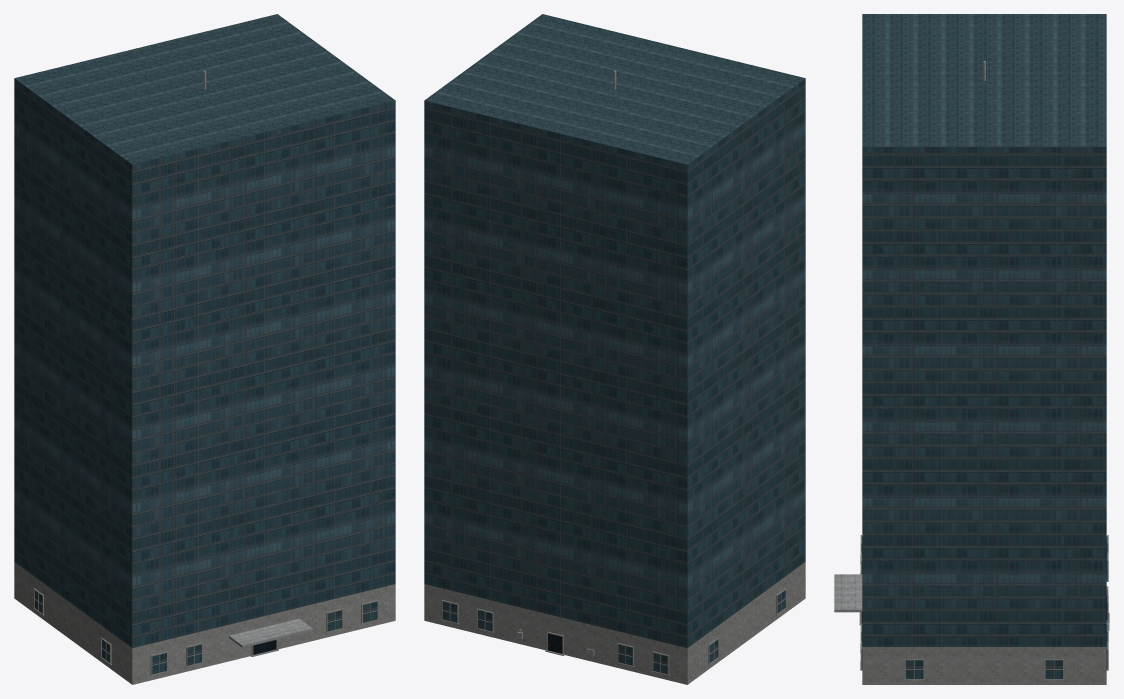
Rendered from midtown-office-tower_lod0.gltf.
3 views of the same model, side by side, from view 1: azimuth 30°, elevation 25°; view 2: azimuth 150°, elevation 25°; view 3: azimuth 270°, elevation 25° (orthographic). The views are drawn at different scales.
Visible parts, largest first — view 1: midtown-office-tower_upper, midtown-office-tower_base, midtown-office-tower_fen_07-glass-curtain-blue_3, midtown-office-tower__canopy, midtown-office-tower_fen_06-granite_0; view 2: midtown-office-tower_upper, midtown-office-tower_base, midtown-office-tower_fen_07-glass-curtain-blue_3, midtown-office-tower_fen_06-granite_0; view 3: midtown-office-tower_upper, midtown-office-tower_base, midtown-office-tower__canopy, midtown-office-tower_fen_07-glass-curtain-blue_3, midtown-office-tower_fen_06-granite_0.
Boxes of the visible parts, x1,y1,x2,y2 form: midtown-office-tower_upper: [14, 14, 395, 648]; midtown-office-tower_base: [14, 562, 395, 684]; midtown-office-tower_fen_07-glass-curtain-blue_3: [34, 590, 377, 674]; midtown-office-tower__canopy: [229, 618, 312, 647]; midtown-office-tower_fen_06-granite_0: [33, 588, 378, 675]; midtown-office-tower_upper: [424, 14, 805, 648]; midtown-office-tower_base: [424, 562, 805, 684]; midtown-office-tower_fen_07-glass-curtain-blue_3: [442, 590, 785, 674]; midtown-office-tower_fen_06-granite_0: [441, 588, 786, 675]; midtown-office-tower_upper: [862, 14, 1106, 646]; midtown-office-tower_base: [862, 647, 1106, 684]; midtown-office-tower__canopy: [834, 574, 862, 612]; midtown-office-tower_fen_07-glass-curtain-blue_3: [862, 536, 1107, 678]; midtown-office-tower_fen_06-granite_0: [859, 535, 1109, 680].
Size of the model in its own units: 45.55 by 88.02 by 39.4.
